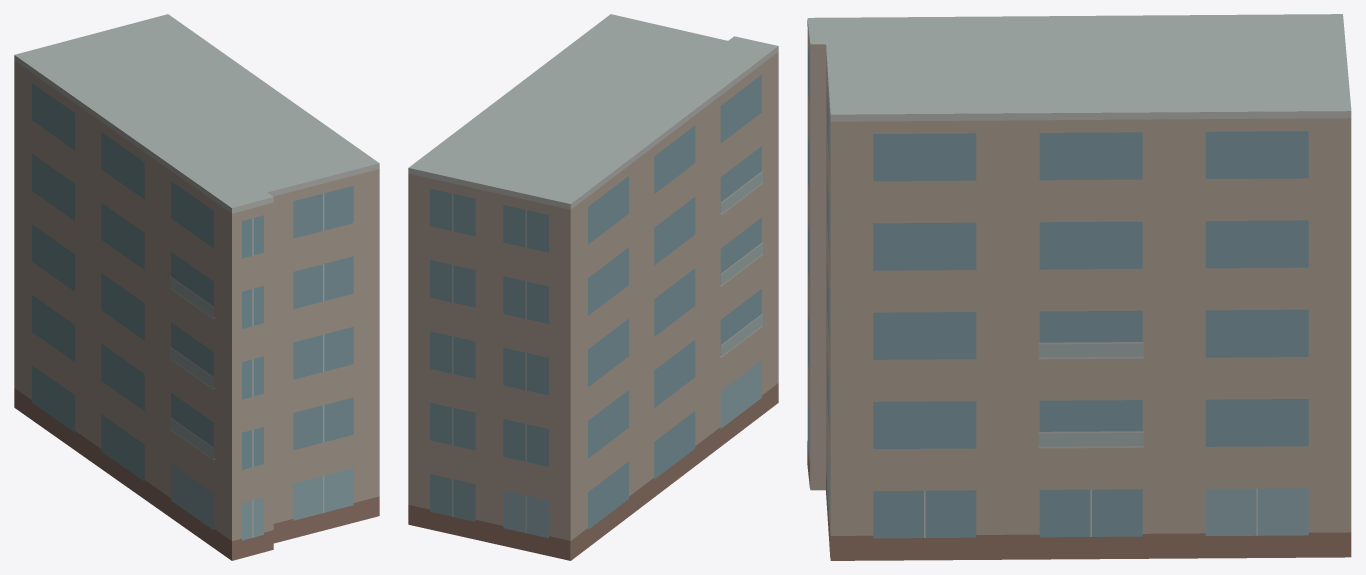
The model's file is survey-upis-32750102.glb.
The picture shows the model from 3 angles, left to right: view 1: azimuth 30°, elevation 25°; view 2: azimuth 150°, elevation 25°; view 3: azimuth 270°, elevation 25°; orthographic projection. The views are drawn at different scales.
Parts seen in each view (by area): view 1: survey-upis-32750102.tmp; view 2: survey-upis-32750102.tmp; view 3: survey-upis-32750102.tmp.
Part boxes in pixels (x1=…): survey-upis-32750102.tmp: x1=14, y1=14, x2=379, y2=560; survey-upis-32750102.tmp: x1=408, y1=14, x2=778, y2=560; survey-upis-32750102.tmp: x1=807, y1=14, x2=1351, y2=560.
Bounding box in the file's own units: 7.48 × 15.45 × 17.08.
